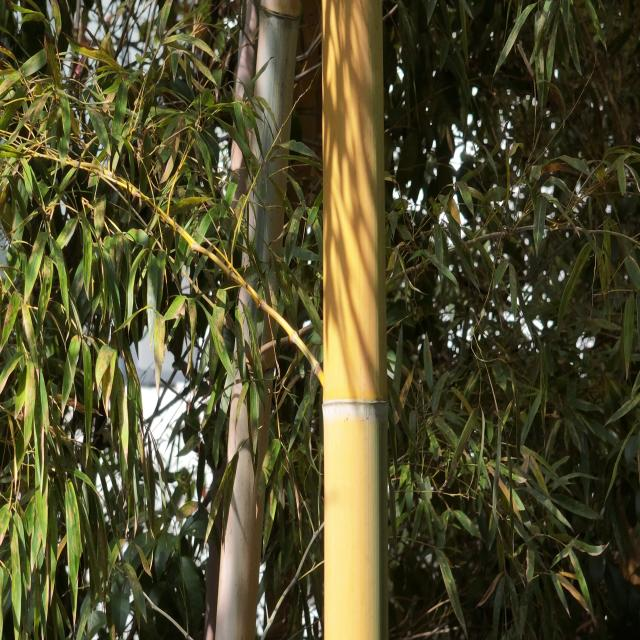Bamboo-shoots: (322, 0, 386, 640)
